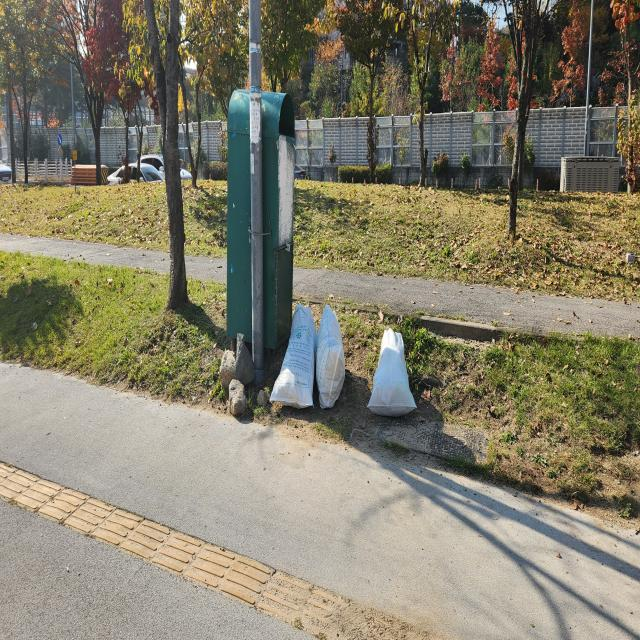PP bag: (274, 290, 316, 433), (369, 319, 416, 431), (319, 304, 348, 417)
